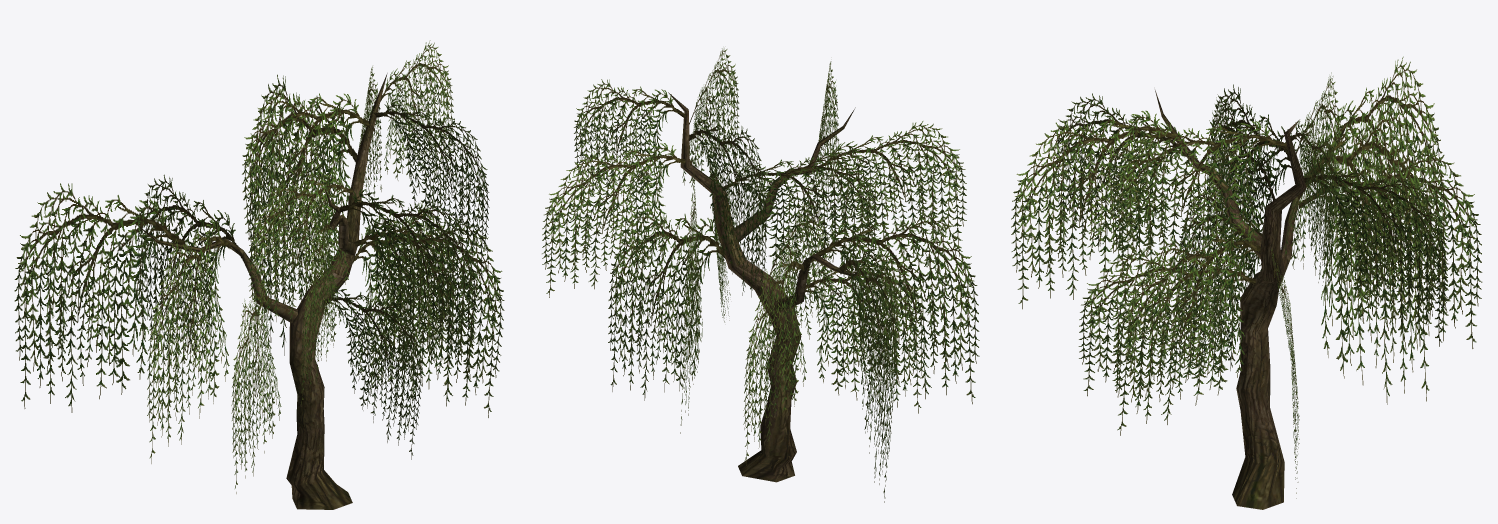
Rendered from liushu_62.FBX.
The picture shows the model from 3 angles, left to right: view 1: azimuth 30°, elevation 25°; view 2: azimuth 150°, elevation 25°; view 3: azimuth 270°, elevation 25°; orthographic projection. The views are drawn at different scales.
Visible parts, largest first — view 1: liushu_62; view 2: liushu_62; view 3: liushu_62.
Boxes of the visible parts, x1=… form: liushu_62: x1=14, y1=40, x2=504, y2=509; liushu_62: x1=542, y1=48, x2=979, y2=502; liushu_62: x1=1011, y1=56, x2=1482, y2=509.
Size of what is drawn, in the model's own units: 1040 by 1054 by 1012.
